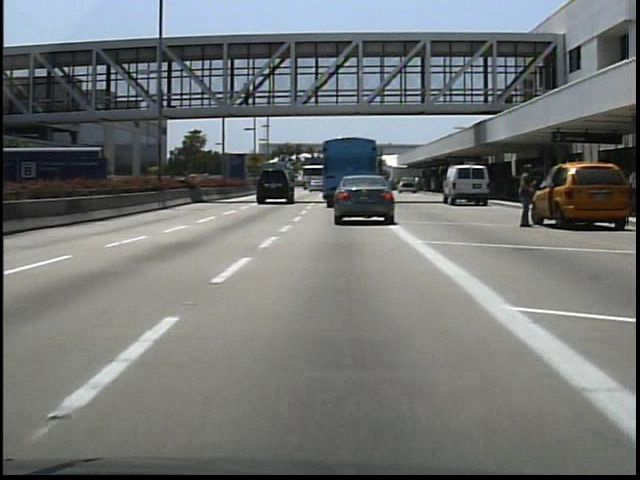person: (514, 162, 540, 228), (240, 82, 256, 114), (154, 83, 170, 111)
